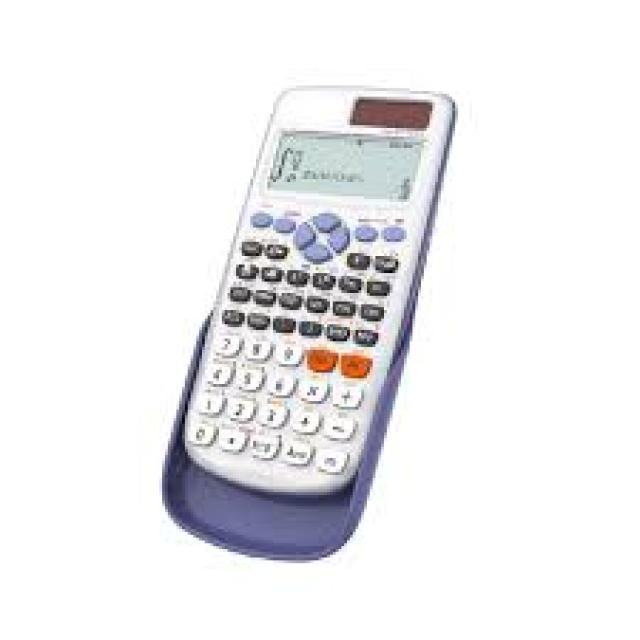Calculator: (157, 87, 466, 509)
